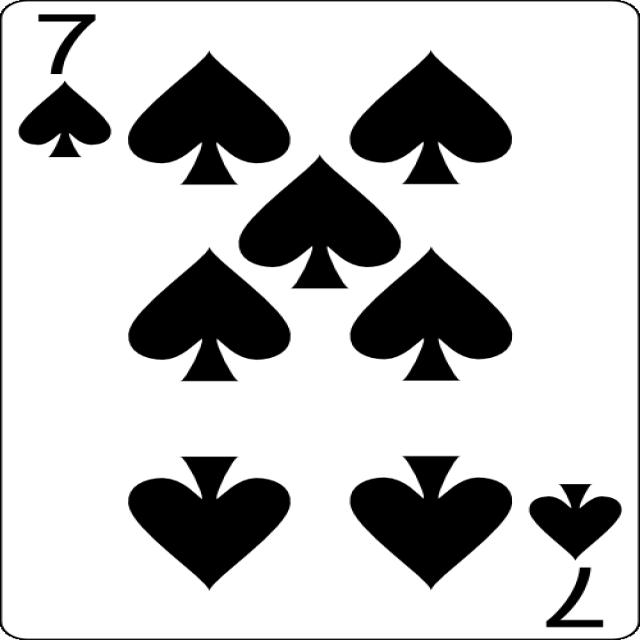Spade: (126, 456, 292, 591), (128, 51, 291, 186), (349, 455, 512, 590), (349, 50, 513, 184), (128, 248, 292, 382), (238, 154, 401, 288), (350, 247, 512, 381), (18, 80, 111, 158), (529, 483, 622, 560)
